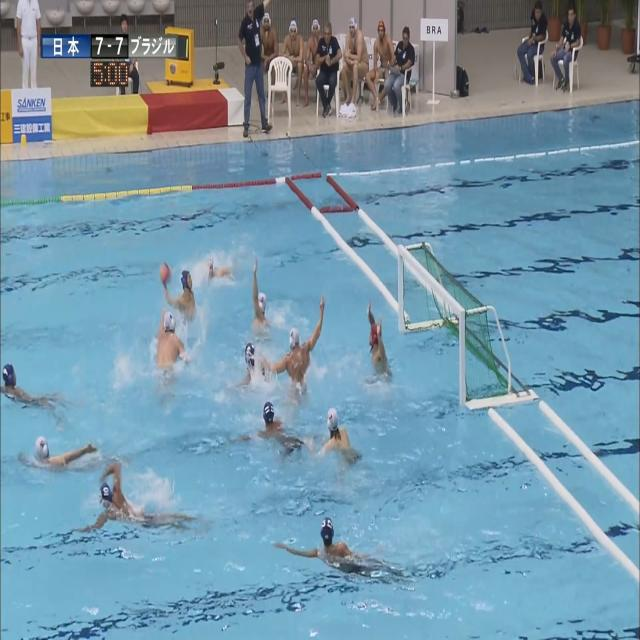ball: (160, 262, 170, 282)
